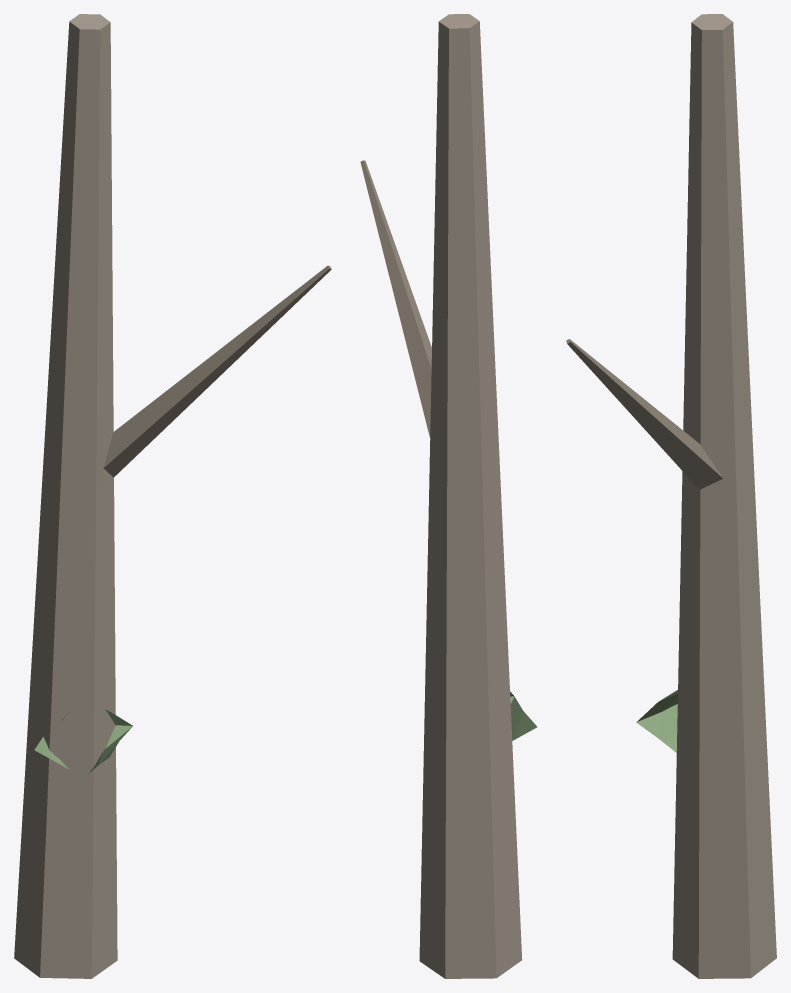
The model's file is snag_v06.glb.
3 views of the same model, side by side, from view 1: azimuth 30°, elevation 25°; view 2: azimuth 150°, elevation 25°; view 3: azimuth 270°, elevation 25° (orthographic).
Parts seen in each view (by area): view 1: lod0; view 2: lod0; view 3: lod0.
Part boxes in pixels (x1,y1,x2,y2): lod0: (14, 14, 331, 978); lod0: (360, 14, 537, 978); lod0: (566, 14, 776, 978).
Size of what is drawn, in the model's own units: 0.7681 by 2.9 by 0.5864.
